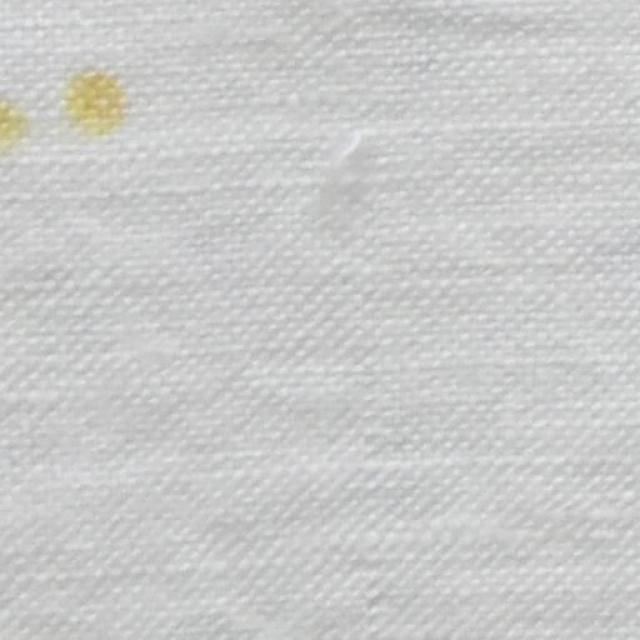Stain: (64, 66, 128, 134), (0, 98, 34, 148)
